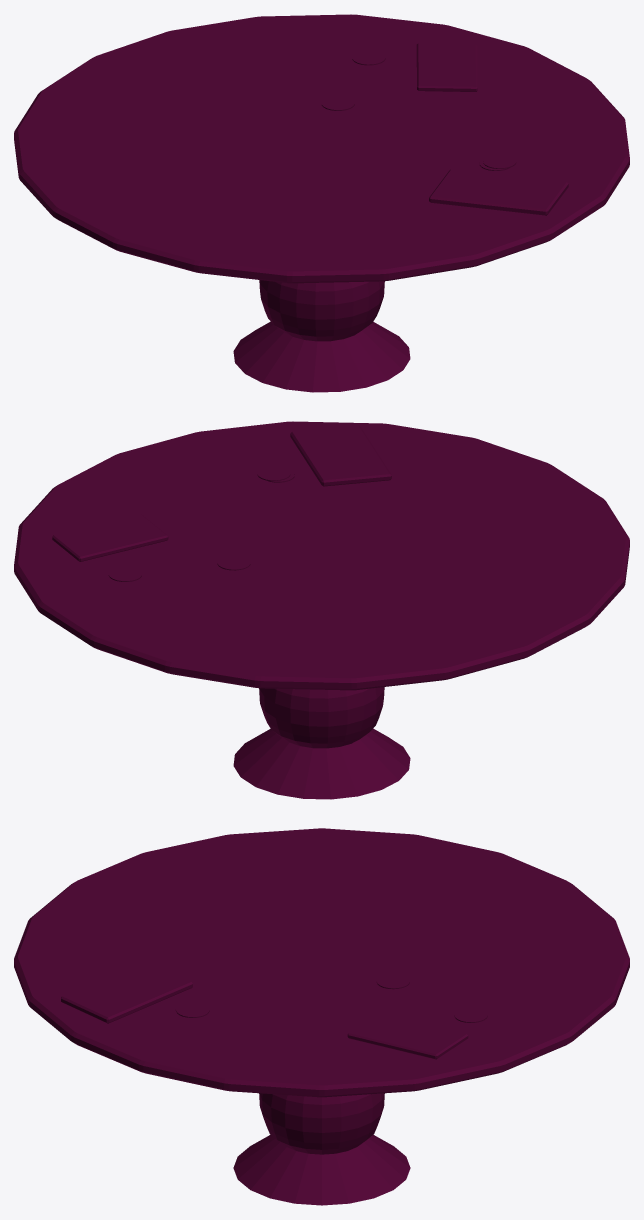
The model's file is Table.fbx.
3 renders of one model, top to bottom at view 1: azimuth 30°, elevation 25°; view 2: azimuth 150°, elevation 25°; view 3: azimuth 270°, elevation 25°, orthographic.
Parts seen in each view (by area): view 1: pCylinder8; view 2: pCylinder8; view 3: pCylinder8.
Part boxes in pixels (left/top/right/bottom): pCylinder8: left=14, top=14, right=629, bottom=392; pCylinder8: left=14, top=421, right=629, bottom=799; pCylinder8: left=14, top=828, right=629, bottom=1205.
Bounding box in the file's own units: 10.59 × 4.12 × 10.59.
